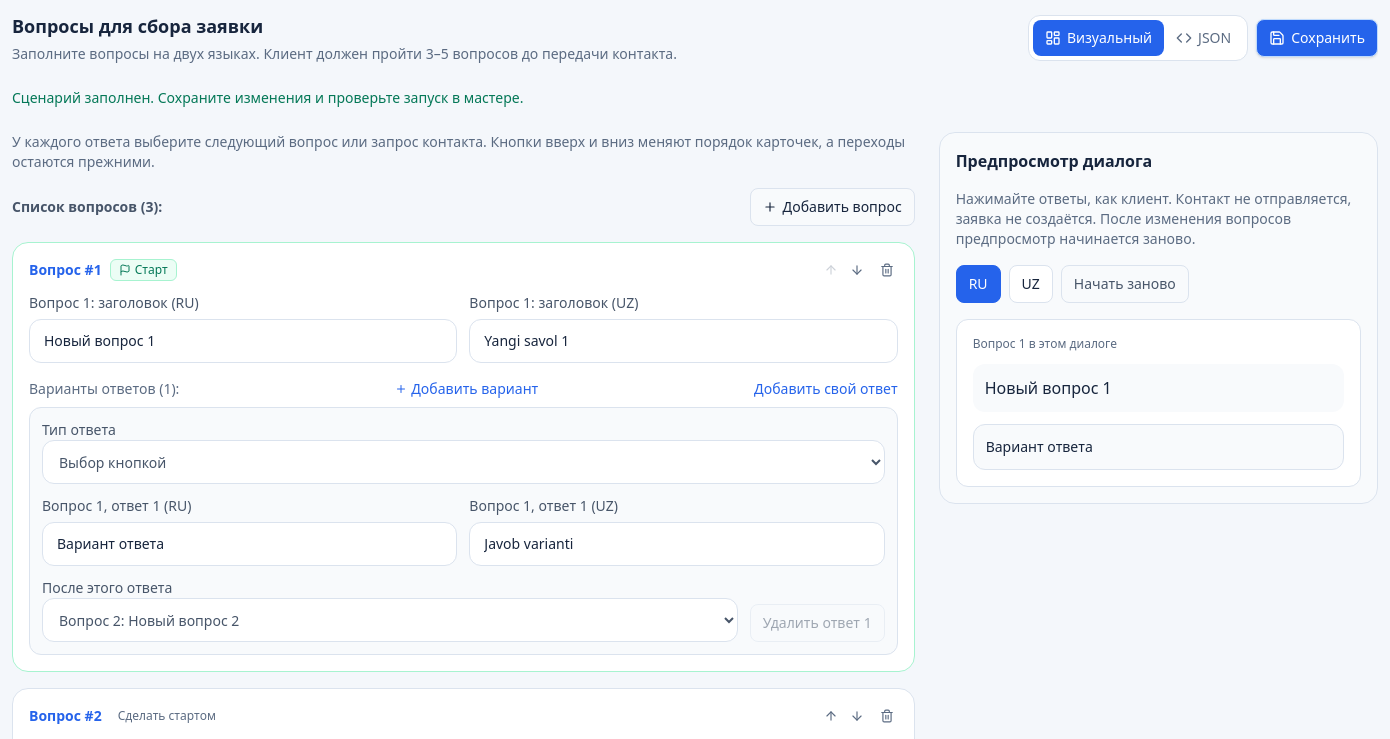
Настройка опросника › после смены первого вопроса предпросмотр начинает с нового старта
The image size is (1390, 739).
Click the button "Сделать стартом" at (167, 716), box [110,706,224,726]
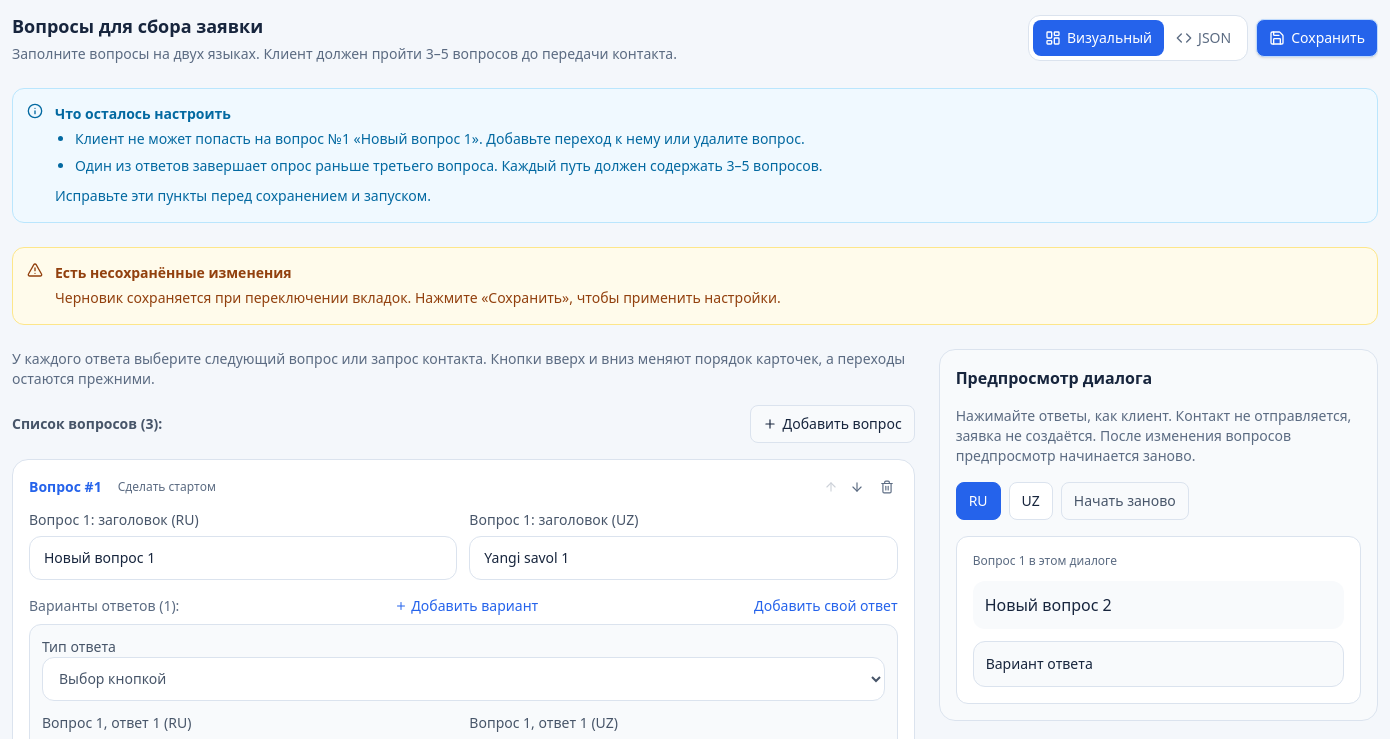
expect the text "Новый вопрос 2" is shown: met, box [973,580,1344,628]
